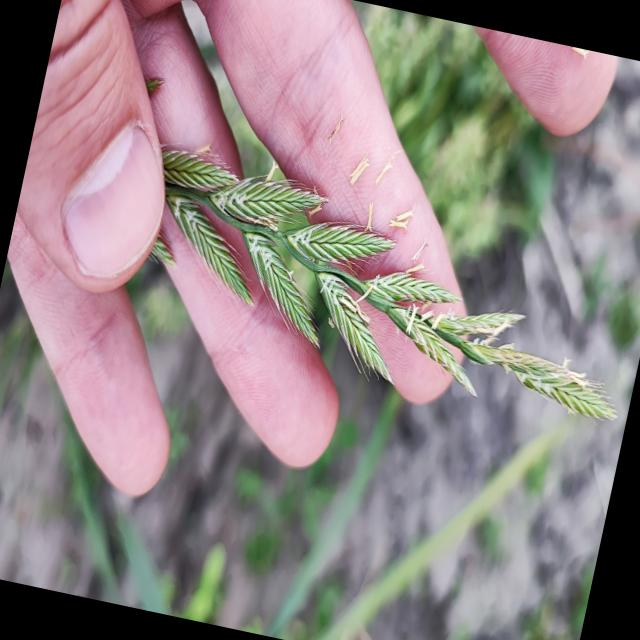Lolium: (114, 128, 640, 445)
